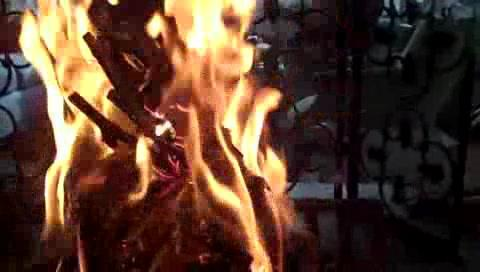fire: (176, 2, 248, 199), (36, 0, 99, 212)
